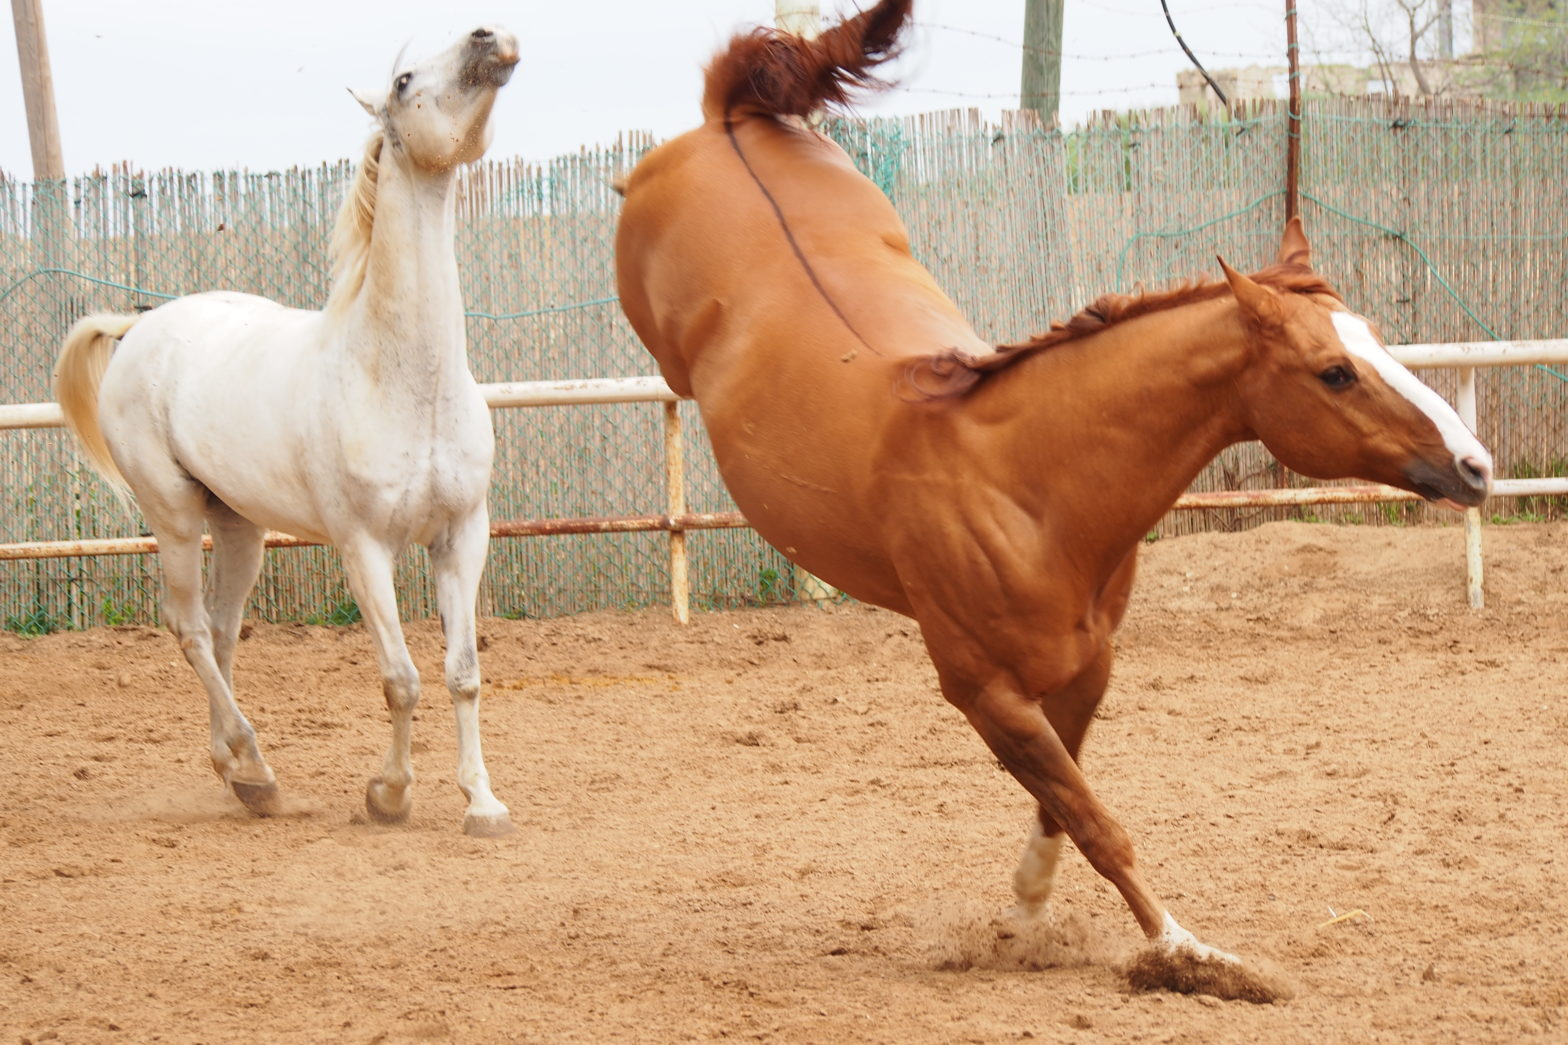Horse: (613, 3, 1500, 1010), (47, 19, 600, 832)
